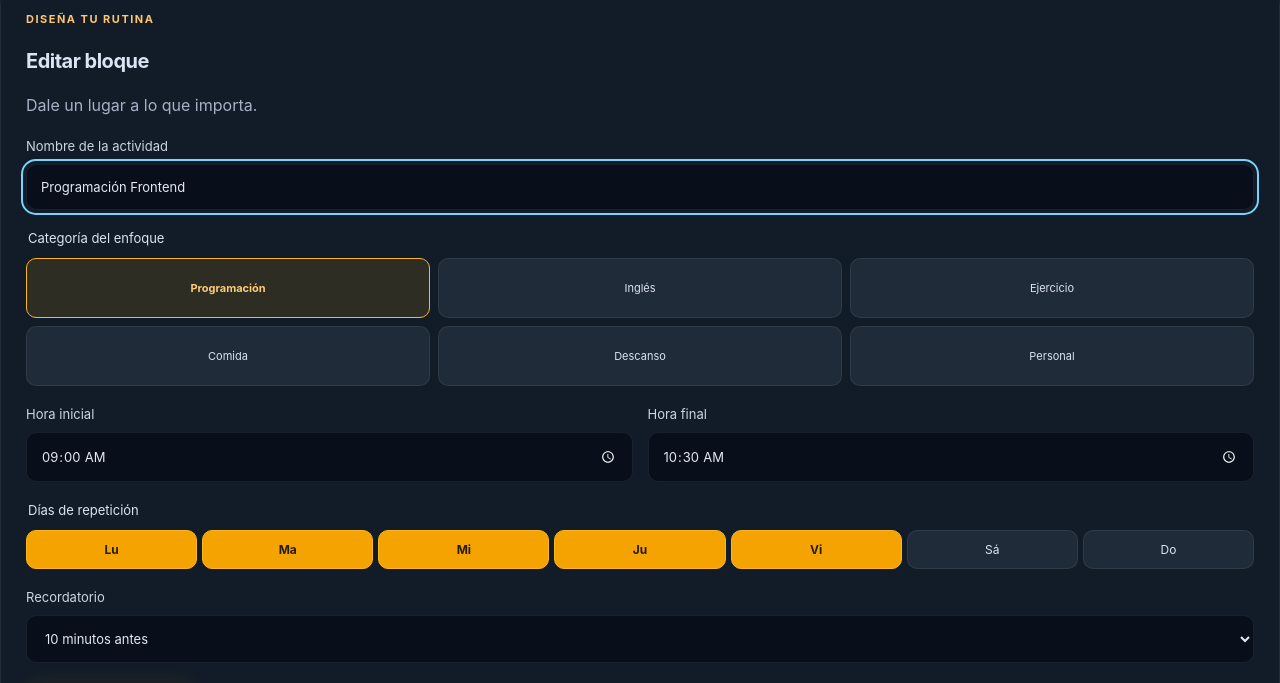
it: rechaza horarios invertidos y conserva los datos al editar
Replace the text in the time field labelled "Hora final" with "08:00": (951, 457) top-left (648, 432), bottom-right (1254, 482)
(page scrolled)
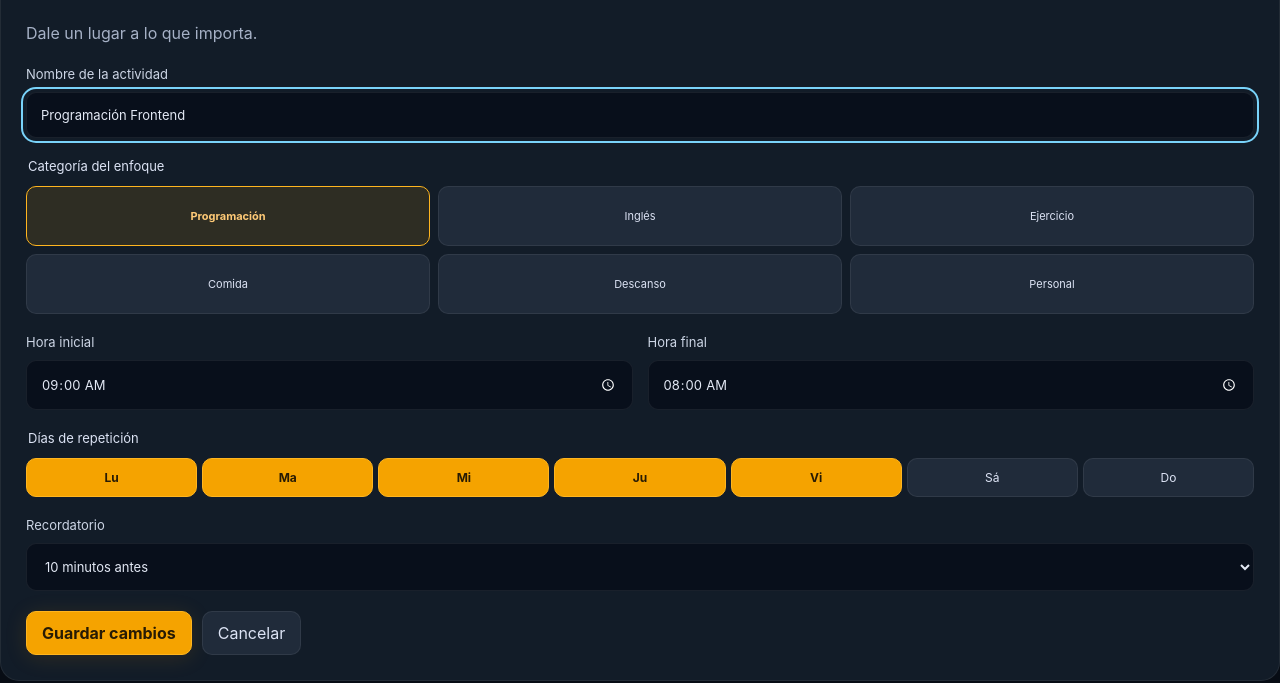
Click the button "Guardar cambios": (109, 633) top-left (26, 611), bottom-right (192, 655)
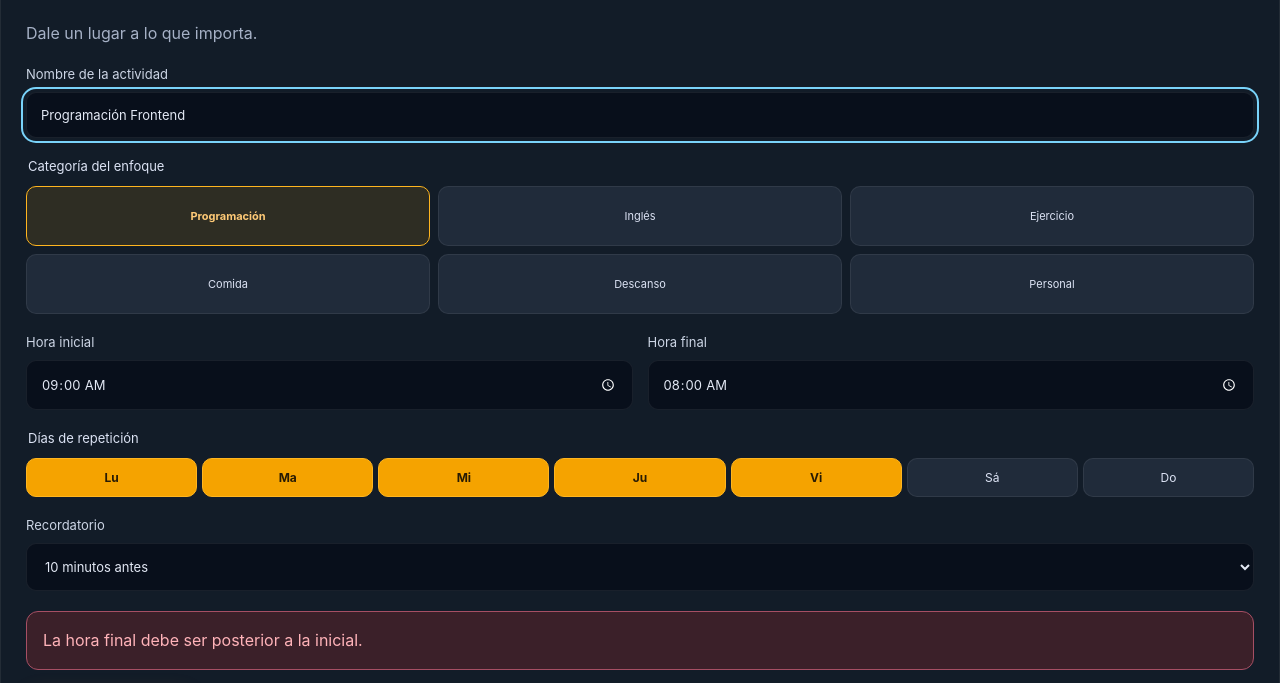
Expected: the message shows "posterior", top-left (43, 630), bottom-right (363, 650)
